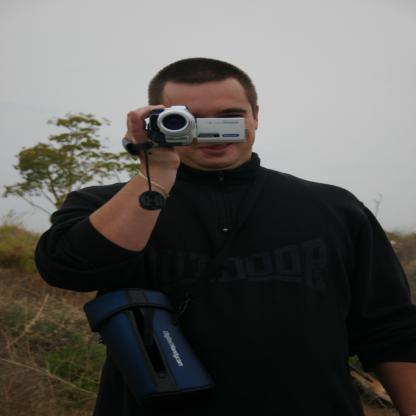Camera: (137, 103, 251, 151)
